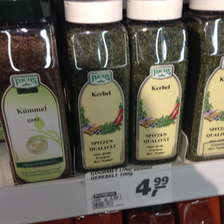spices: (1, 2, 72, 183), (63, 1, 128, 172), (126, 1, 192, 164)
